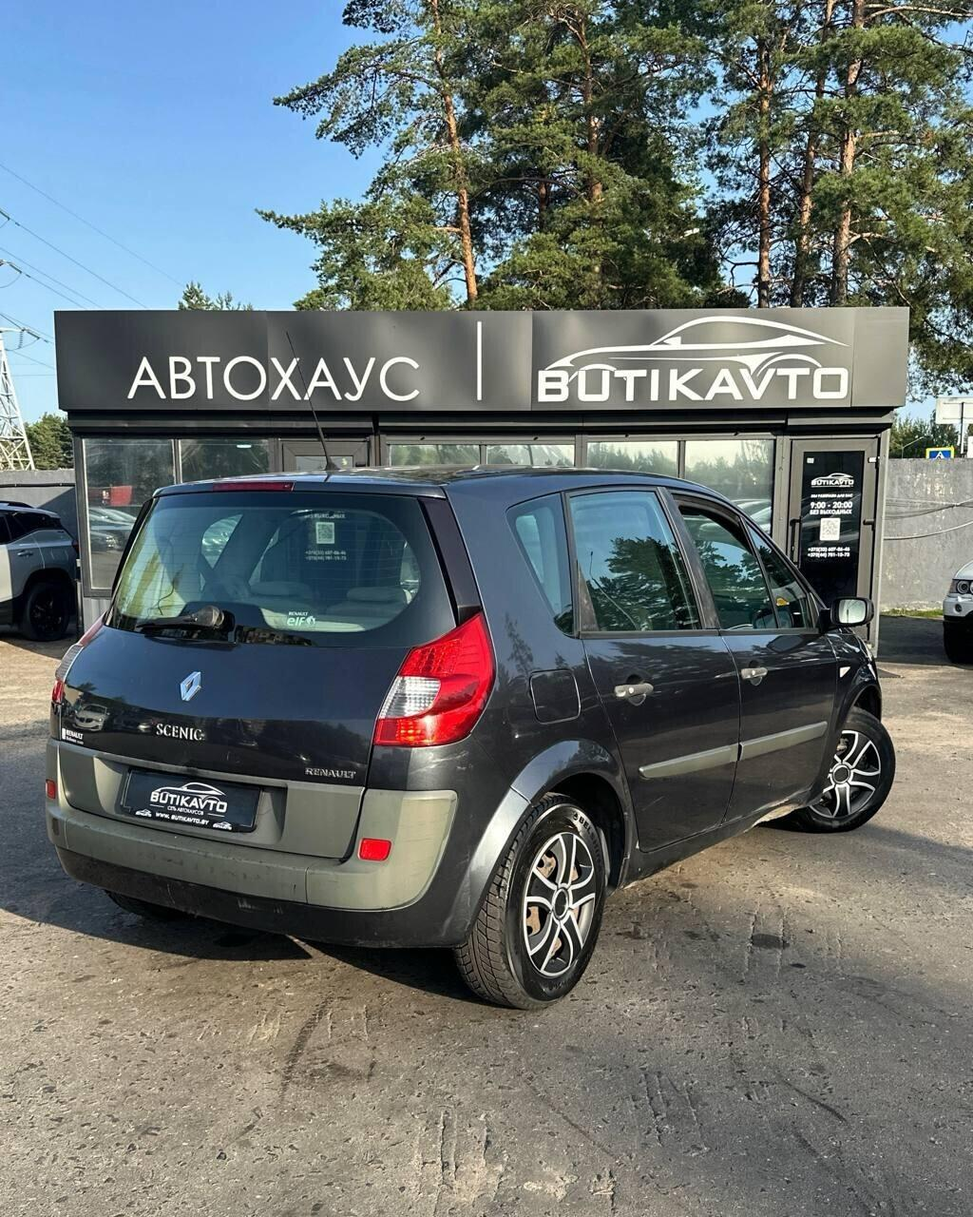Megane_2005-2009: (41, 458, 892, 1005)
